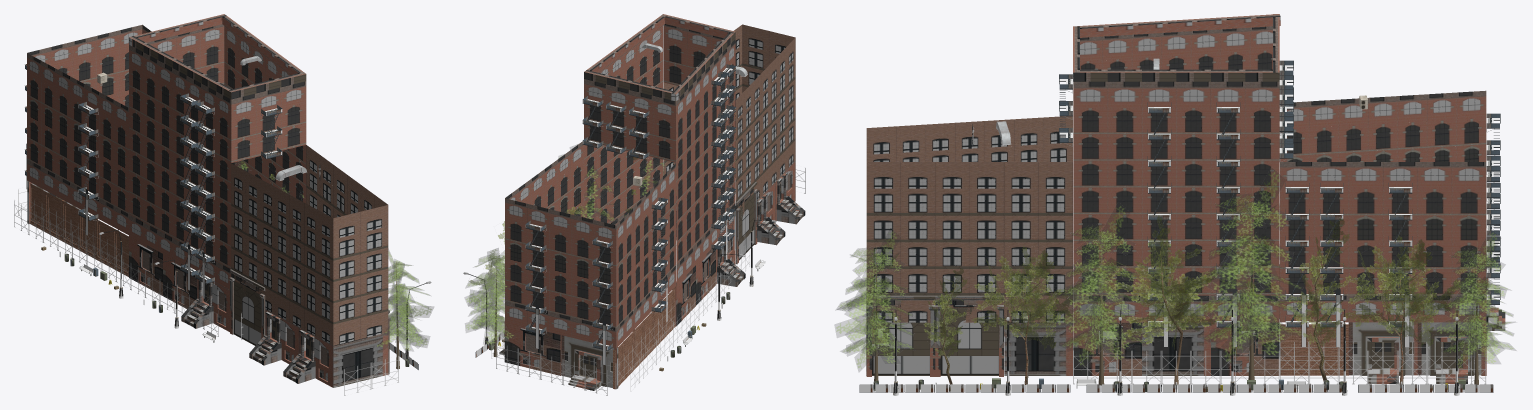
File: proc3_01.gltf
3 renders of one model, left to right at view 1: azimuth 30°, elevation 25°; view 2: azimuth 150°, elevation 25°; view 3: azimuth 270°, elevation 25°, orthographic. The views are drawn at different scales.
Parts seen in each view (by area): view 1: proc3_01; view 2: proc3_01; view 3: proc3_01.
Boxes of the visible parts, box(x1,y1,x2,y2) form: proc3_01: box(14, 14, 433, 395); proc3_01: box(463, 14, 805, 395); proc3_01: box(834, 14, 1516, 395).
Size of the model in its own units: 31.33 by 34.04 by 69.55.
Materials: 17 (15 with a texture image).
